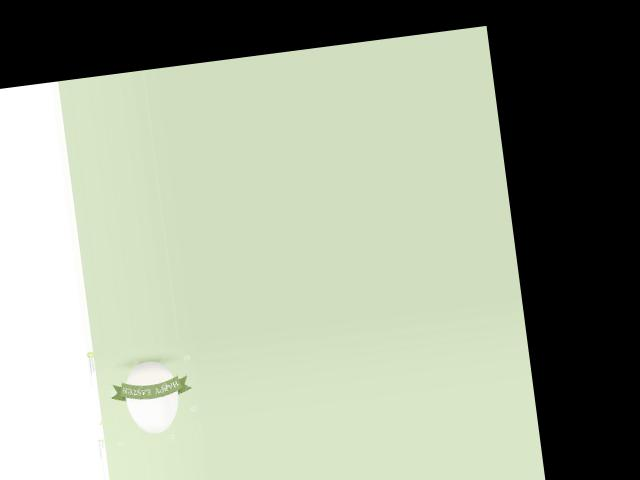egg: (120, 358, 181, 436)
